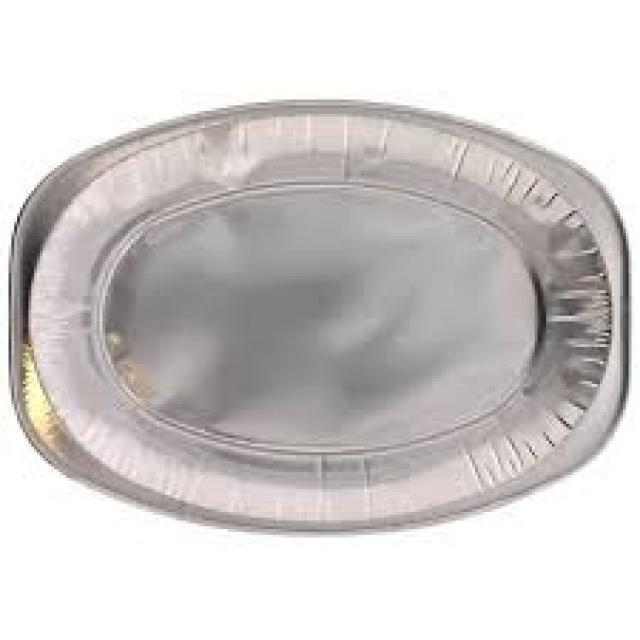metal: (0, 97, 634, 538)
